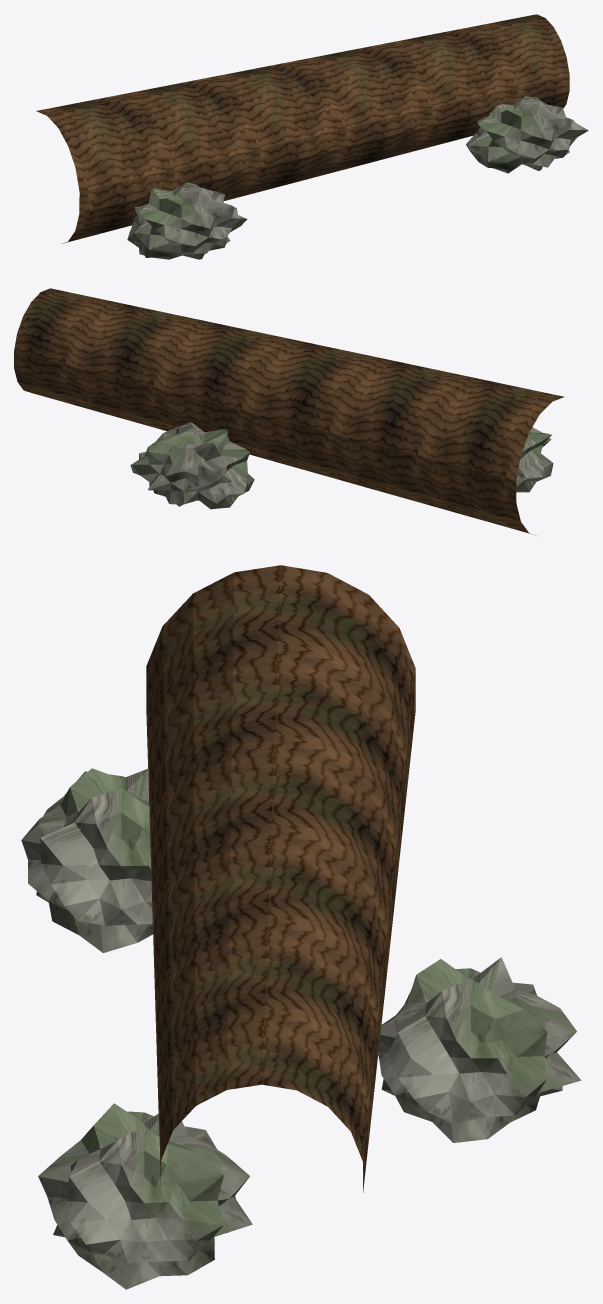
File: fallen_log.glb
3 views of the same model, one above another, from view 1: azimuth 30°, elevation 25°; view 2: azimuth 150°, elevation 25°; view 3: azimuth 270°, elevation 25° (orthographic). The views are drawn at different scales.
Visible parts, largest first — view 1: fallen tree trunk, fallen log rock 0, fallen log rock 2; view 2: fallen tree trunk, fallen log rock 1, fallen log rock 0; view 3: fallen tree trunk, fallen log rock 1, fallen log rock 2, fallen log rock 0.
Boxes of the visible parts, x1,y1,x2,y2 form: fallen tree trunk: (36,14,569,243); fallen log rock 0: (127,182,247,259); fallen log rock 2: (466,96,588,173); fallen tree trunk: (14,288,564,535); fallen log rock 1: (130,422,254,509); fallen log rock 0: (516,427,553,492); fallen tree trunk: (146,565,415,1192); fallen log rock 1: (378,957,581,1142); fallen log rock 2: (38,1103,252,1289); fallen log rock 0: (21,768,152,953).
Size of the model in its own units: 3.01 by 0.7839 by 1.47.
Materials: 2 (2 with a texture image).
